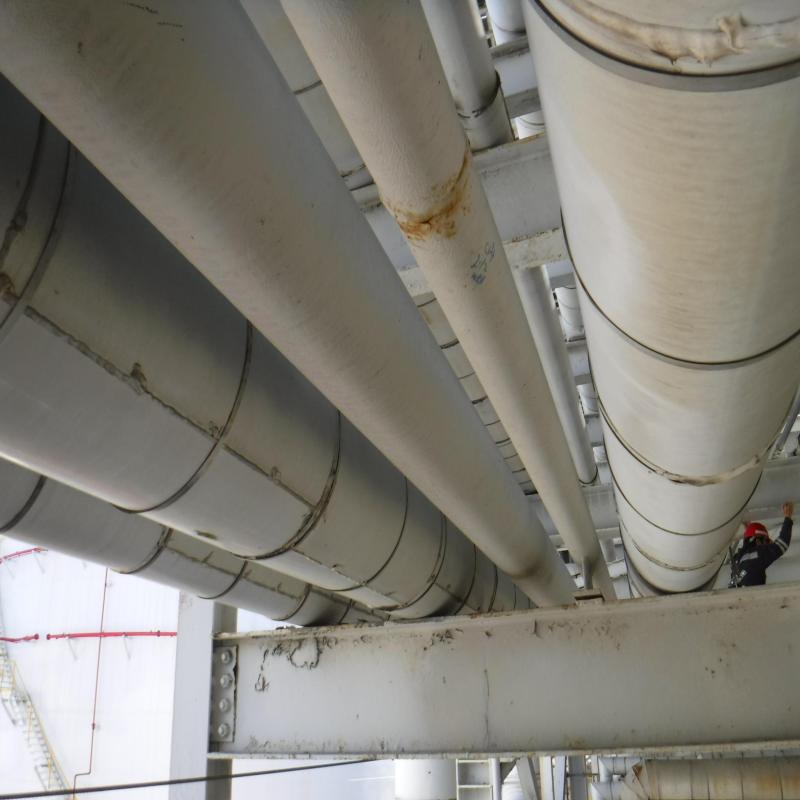corrosion: (392, 204, 458, 238)
